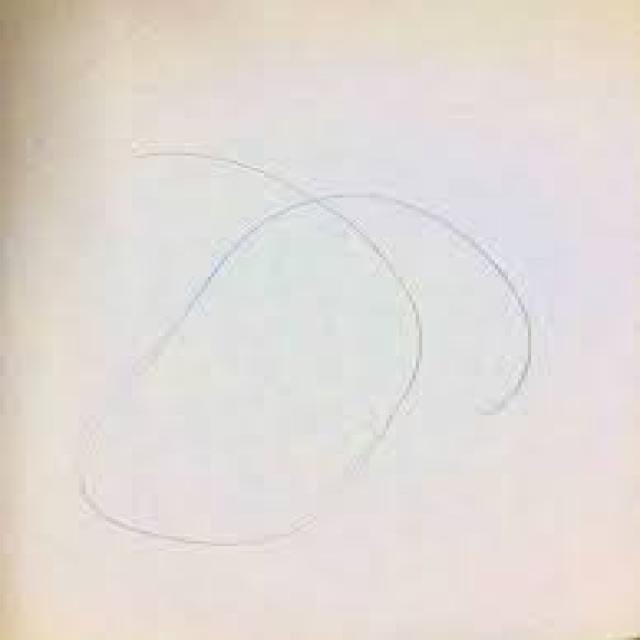hair: (80, 144, 546, 546)
